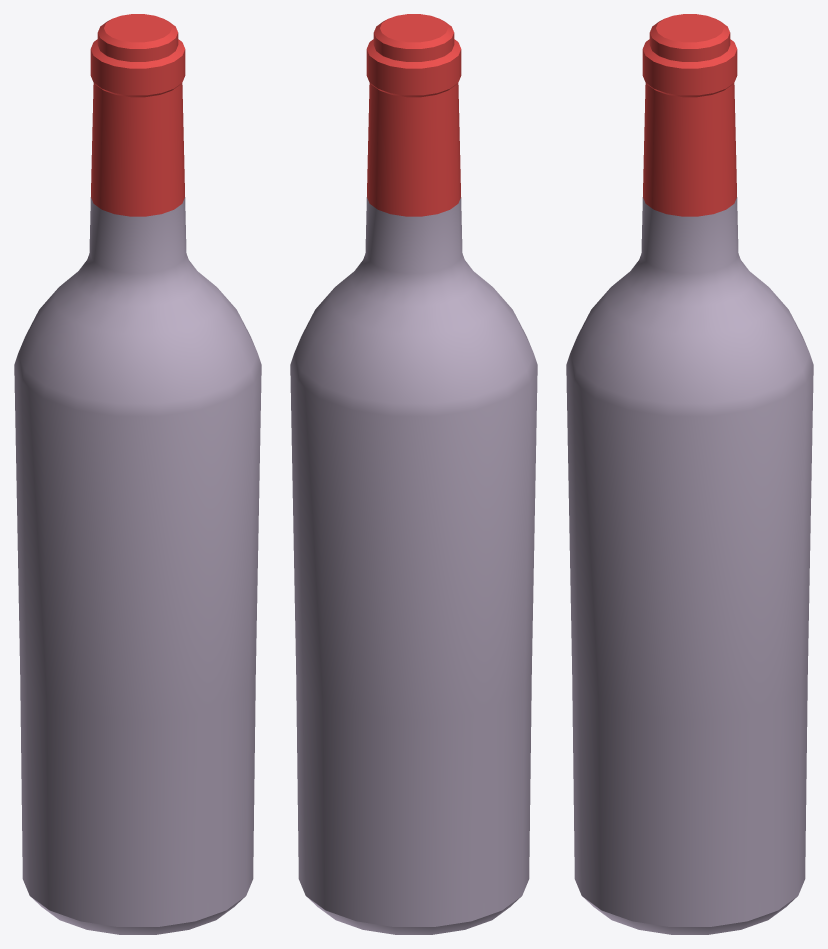
File: SM_Bottle03.fbx
The picture shows the model from 3 angles, left to right: view 1: azimuth 30°, elevation 25°; view 2: azimuth 150°, elevation 25°; view 3: azimuth 270°, elevation 25°; orthographic projection.
Visible parts, largest first — view 1: SM_Bottle03; view 2: SM_Bottle03; view 3: SM_Bottle03.
Part boxes in pixels (<box>): SM_Bottle03: <box>14,14,261,934</box>; SM_Bottle03: <box>290,14,537,934</box>; SM_Bottle03: <box>566,14,813,934</box>.
Size of what is drawn, in the model's own units: 112 by 447 by 114.
